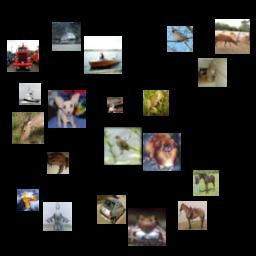airplane: (43, 202, 72, 231), (17, 189, 39, 211)
automobile: (97, 195, 126, 224)
bird: (104, 127, 142, 165), (167, 26, 193, 52), (107, 97, 123, 113)
cat: (198, 58, 227, 87)
deer: (215, 19, 250, 54), (12, 112, 44, 144)
dog: (48, 90, 86, 128), (143, 133, 181, 171)
frog: (128, 208, 166, 246), (143, 90, 169, 116), (47, 152, 69, 174)
ship: (84, 36, 122, 74), (52, 22, 81, 51), (19, 83, 41, 105)
truck: (7, 40, 39, 72)
